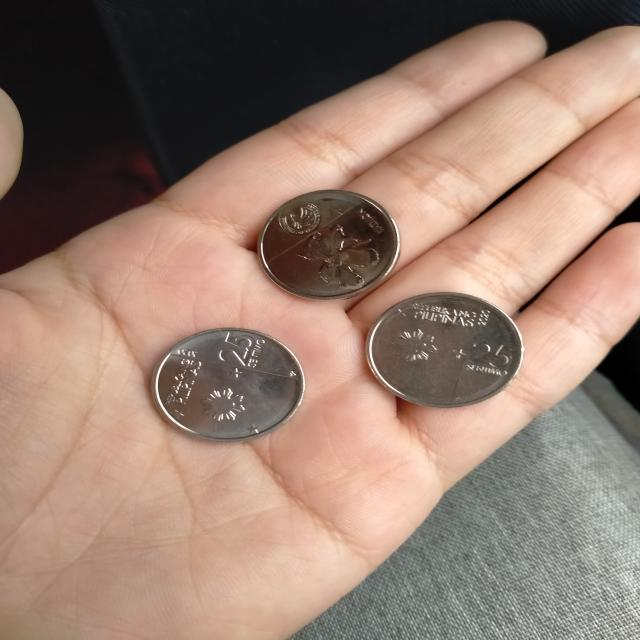25Cent_New_Back: (299, 221, 380, 288)
25Cent_New_Front: (212, 324, 273, 374), (467, 341, 520, 379)
